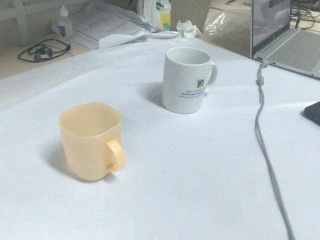bottle: (56, 5, 74, 42)
cup: (58, 102, 128, 183), (160, 46, 218, 115)
mouse: (301, 98, 320, 132)
